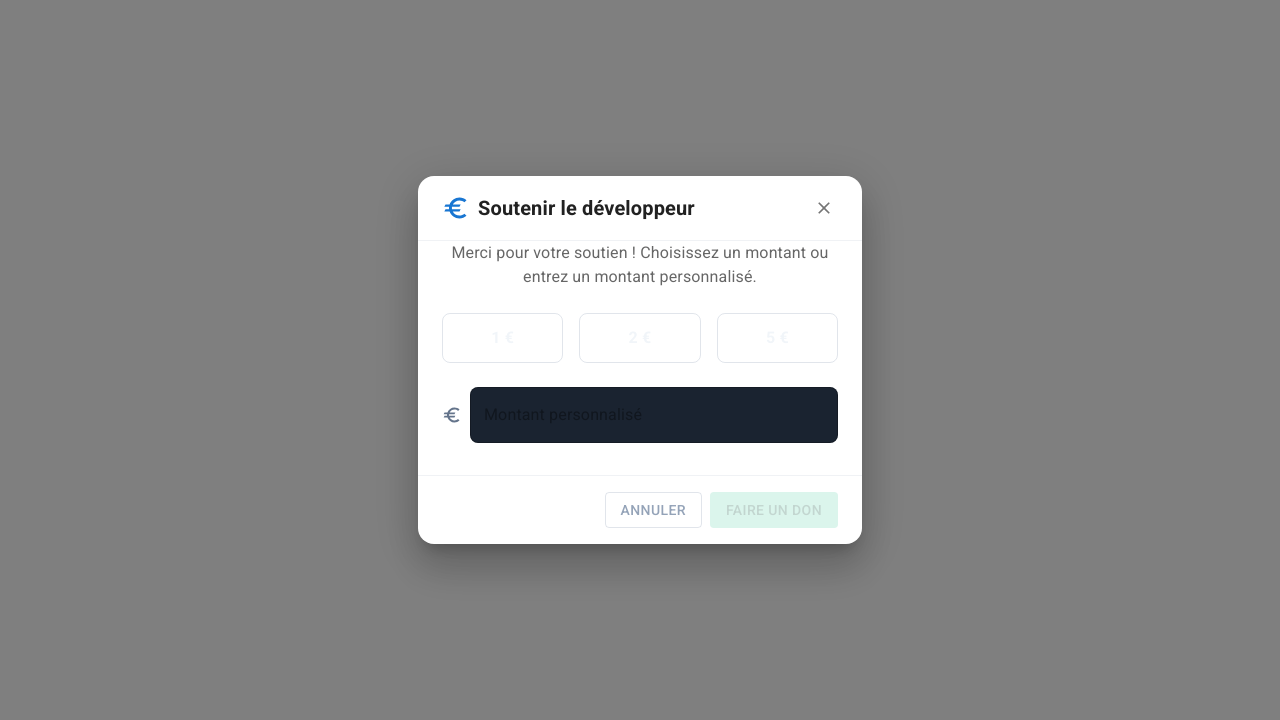
DonationDialog › selecting a predefined amount displays it
The width and height of the screenshot is (1280, 720).
Use getAllByText and click the first one (the button)
Click the button "2 €".
click(640, 338)  # box [579,313,701,363]
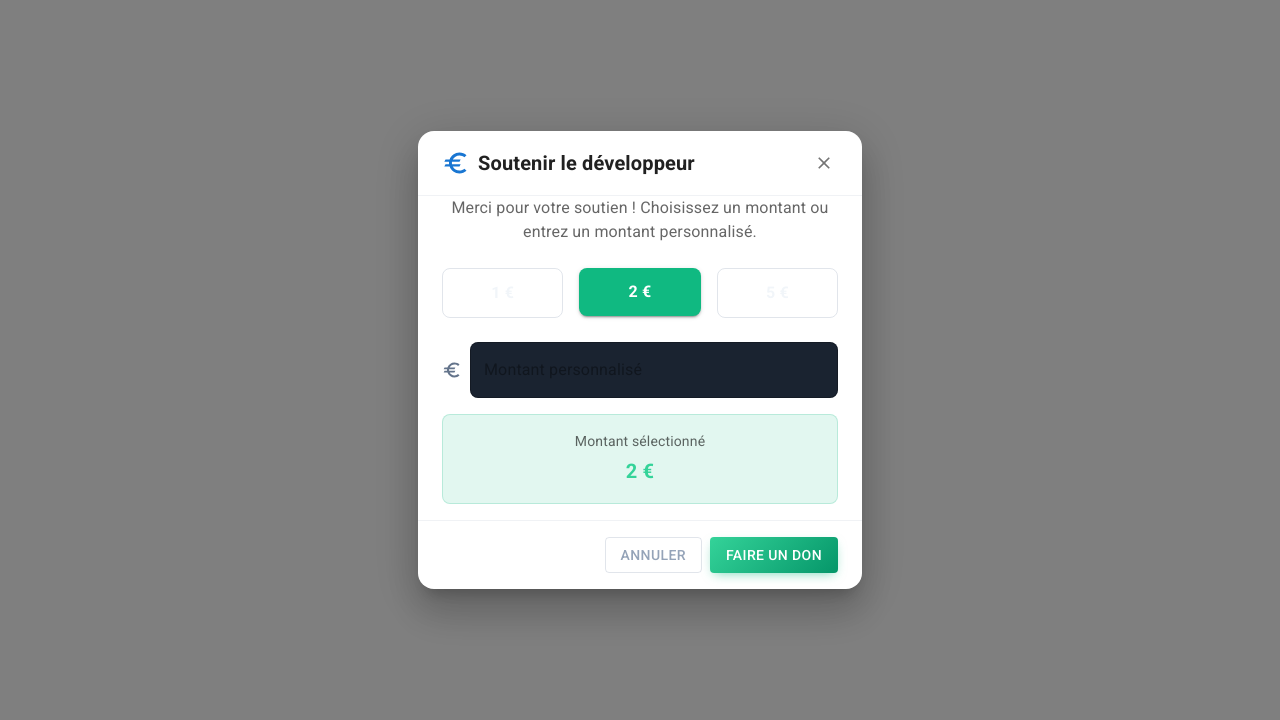
Expected: the text "Montant sélectionné" is shown, [575,433,705,449]
